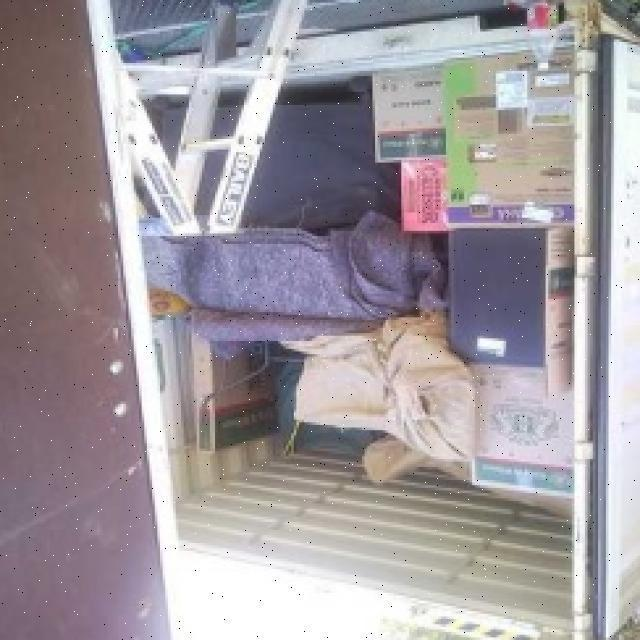box: (438, 55, 576, 219), (455, 377, 570, 500), (360, 74, 452, 165), (388, 164, 458, 242)
